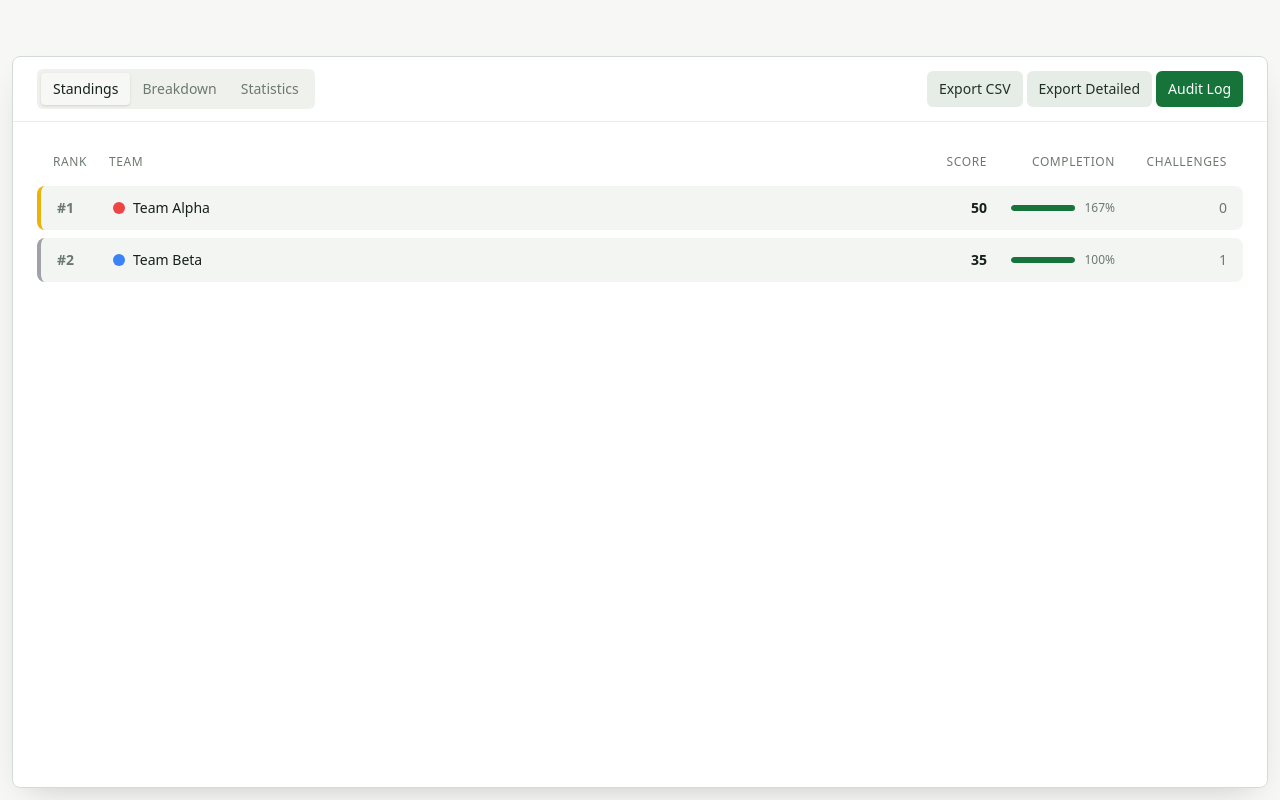
Test: ResultsOverlay › switches to statistics tab on click
Step 1. Click the tab with test id "tab-statistics" → (270, 89), box [229, 73, 311, 105]
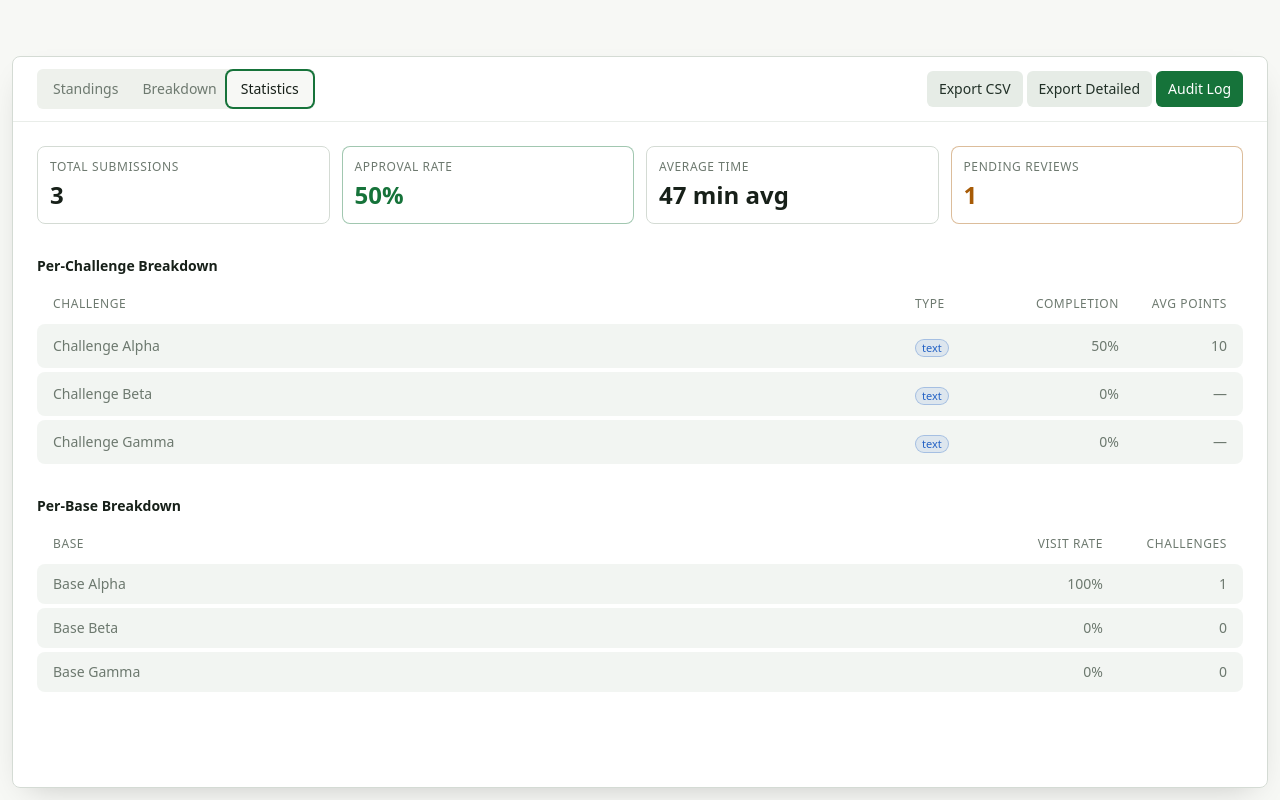
Check: the element with test id "game-statistics" is shown
